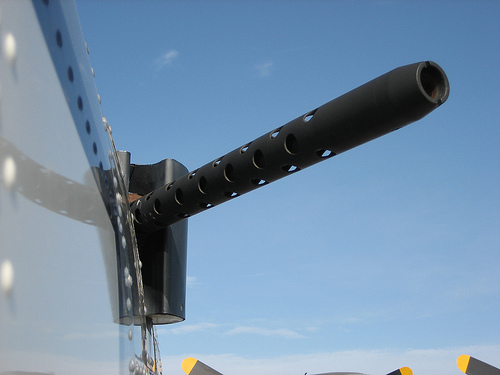rifle: (131, 58, 461, 239)
